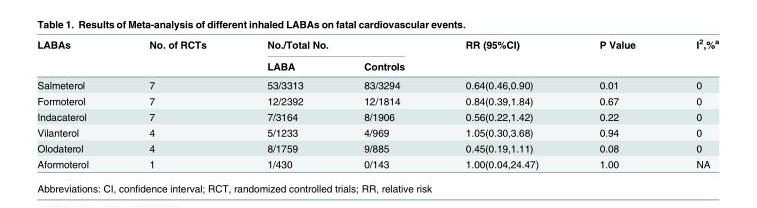table: (36, 36, 718, 169)
table column: (434, 36, 568, 169), (118, 36, 236, 169), (332, 36, 434, 169), (568, 36, 665, 169), (236, 36, 332, 169), (36, 36, 118, 169), (665, 36, 718, 169)
table column header: (36, 36, 718, 75)
table row: (36, 54, 718, 75), (36, 36, 718, 54), (36, 75, 718, 92), (36, 92, 718, 108), (36, 108, 718, 124), (36, 124, 718, 140), (36, 140, 718, 155), (36, 155, 718, 169)
table spanning cell: (434, 36, 568, 75), (118, 36, 236, 75), (568, 36, 665, 75), (236, 36, 434, 54), (36, 36, 118, 75), (665, 36, 718, 75)
